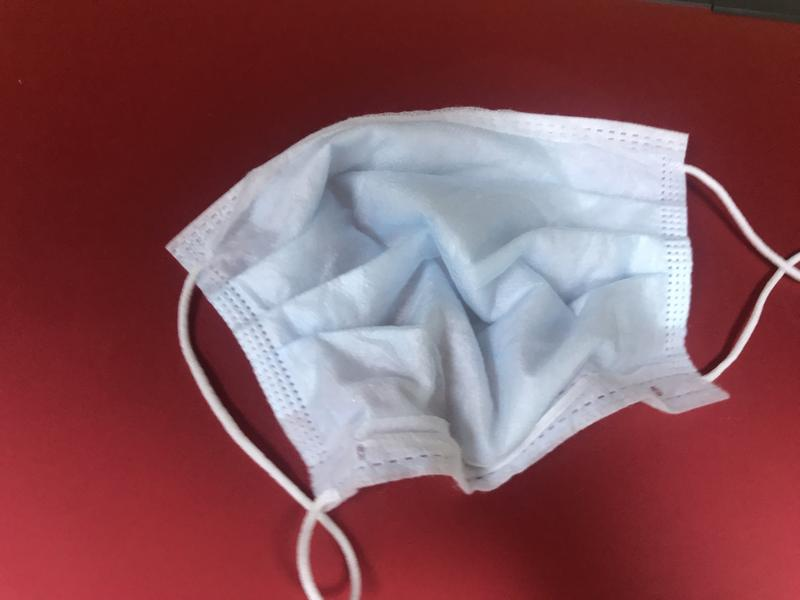medical_mask: (165, 103, 800, 597)
